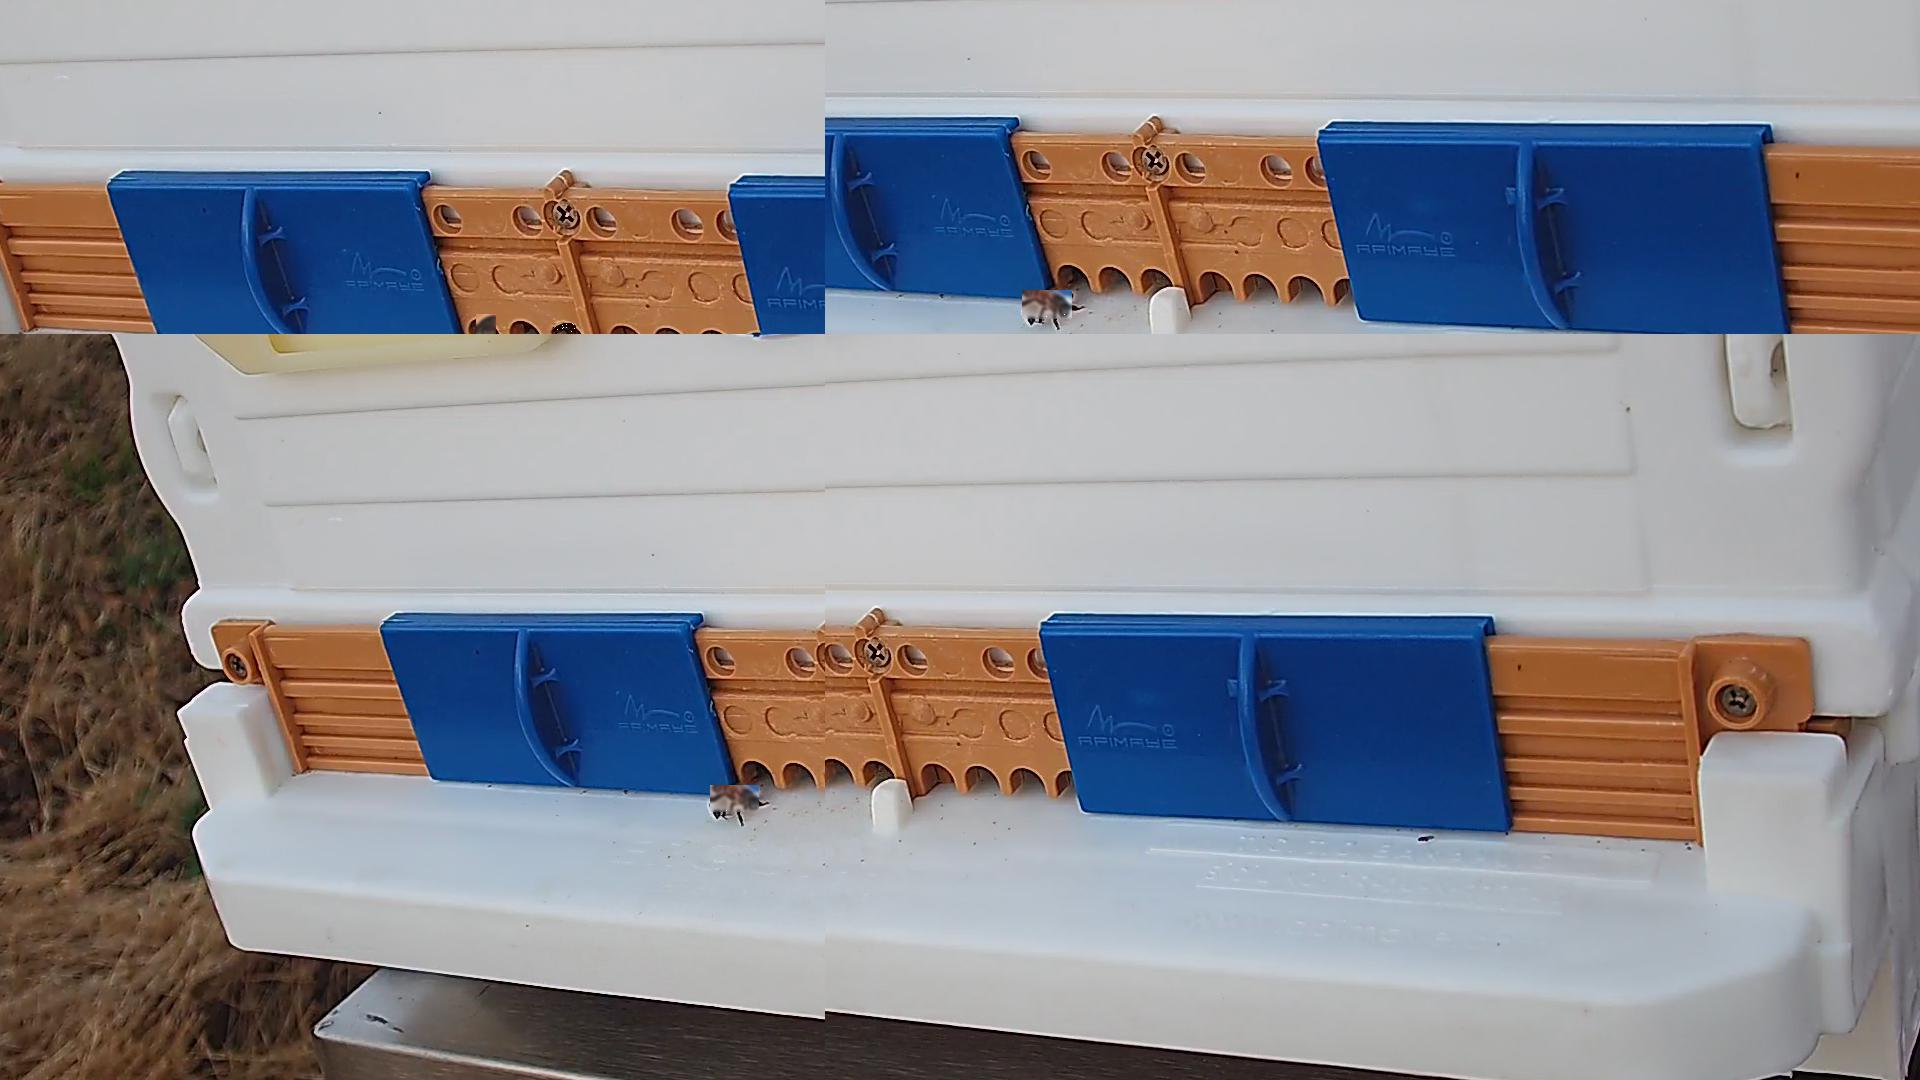bee: (1022, 290, 1073, 322), (711, 786, 761, 815), (476, 314, 497, 334)
pollenbee: (553, 323, 578, 334)
